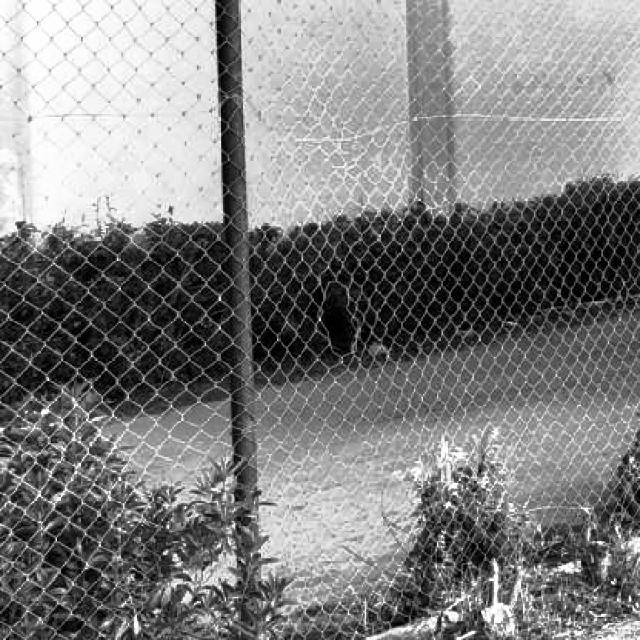anomaly-fence: (282, 246, 368, 379)
fences: (15, 24, 256, 601), (391, 45, 640, 570)
